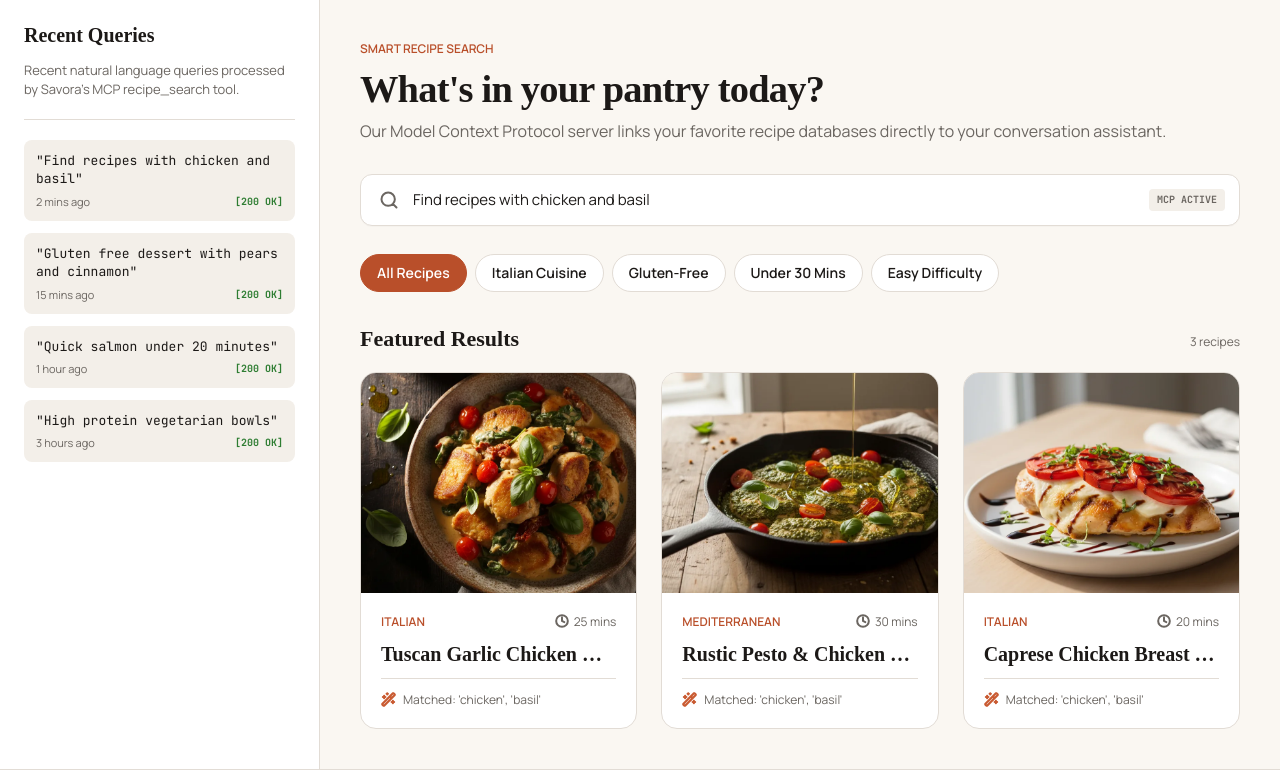
Test case: Savora app › navigates from a recipe card to its detail view
Click the link with aria-label "View Tuscan Garlic Chicken with Basil".
click(499, 550)  # box x1=361 y1=373 x2=636 y2=728
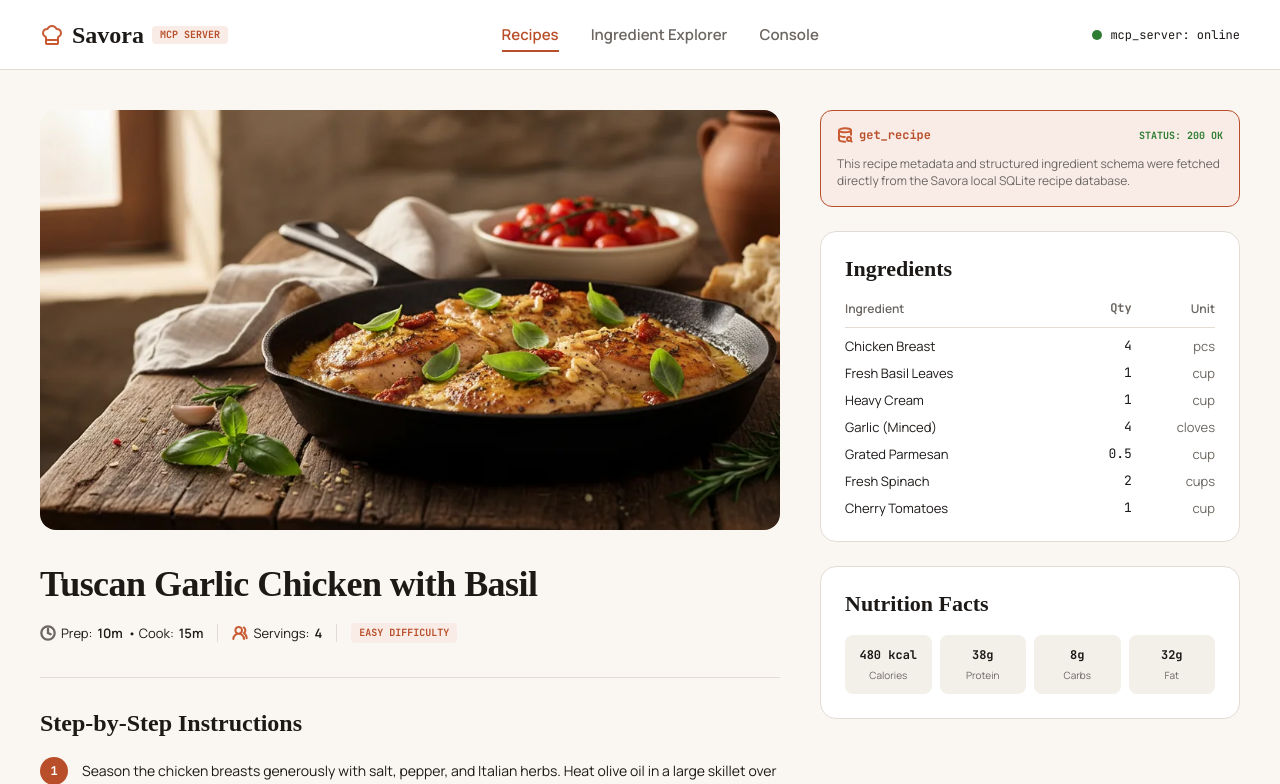
Expected: the link "Recipes" is shown, x1=502 y1=16 x2=559 y2=53
Now the heading "Tuscan Garlic Chicken with Basil" is shown, box x1=40 y1=564 x2=538 y2=604
Now the heading "Step-by-Step Instructions" is shown, box x1=40 y1=710 x2=302 y2=736
